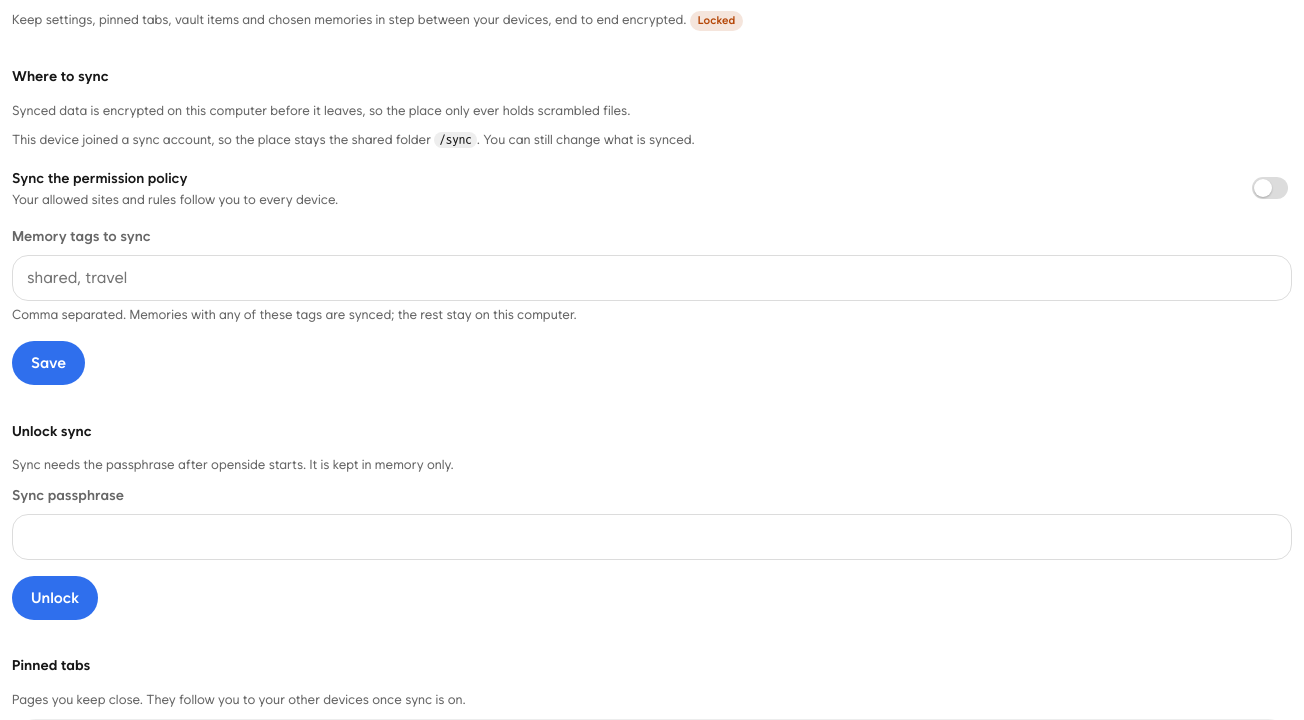
Scenario: SyncPage › explains a wrong passphrase in words
The width and height of the screenshot is (1304, 720).
Type "nope nope nope" into the password field labelled "Sync passphrase".
click(652, 537); type("nope nope nope")  # box [12,514,1292,560]
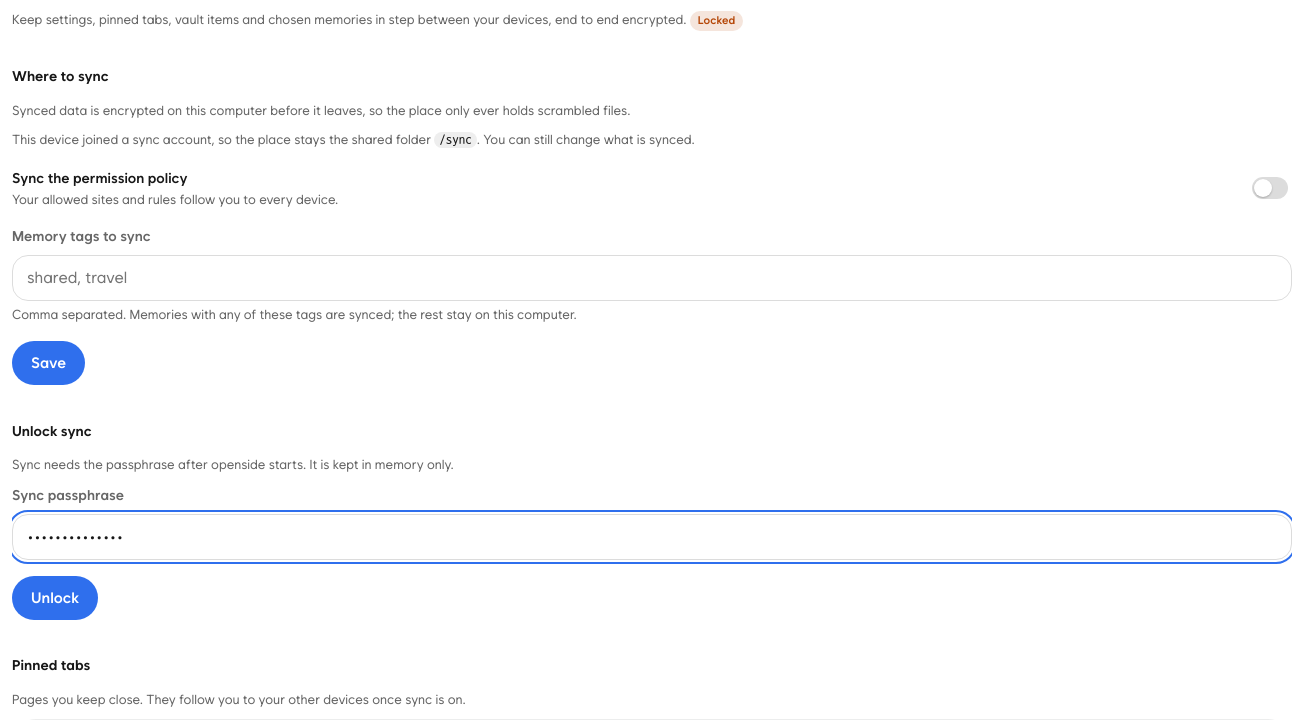
Click the button "Unlock".
click(55, 598)  # box [12,576,98,620]
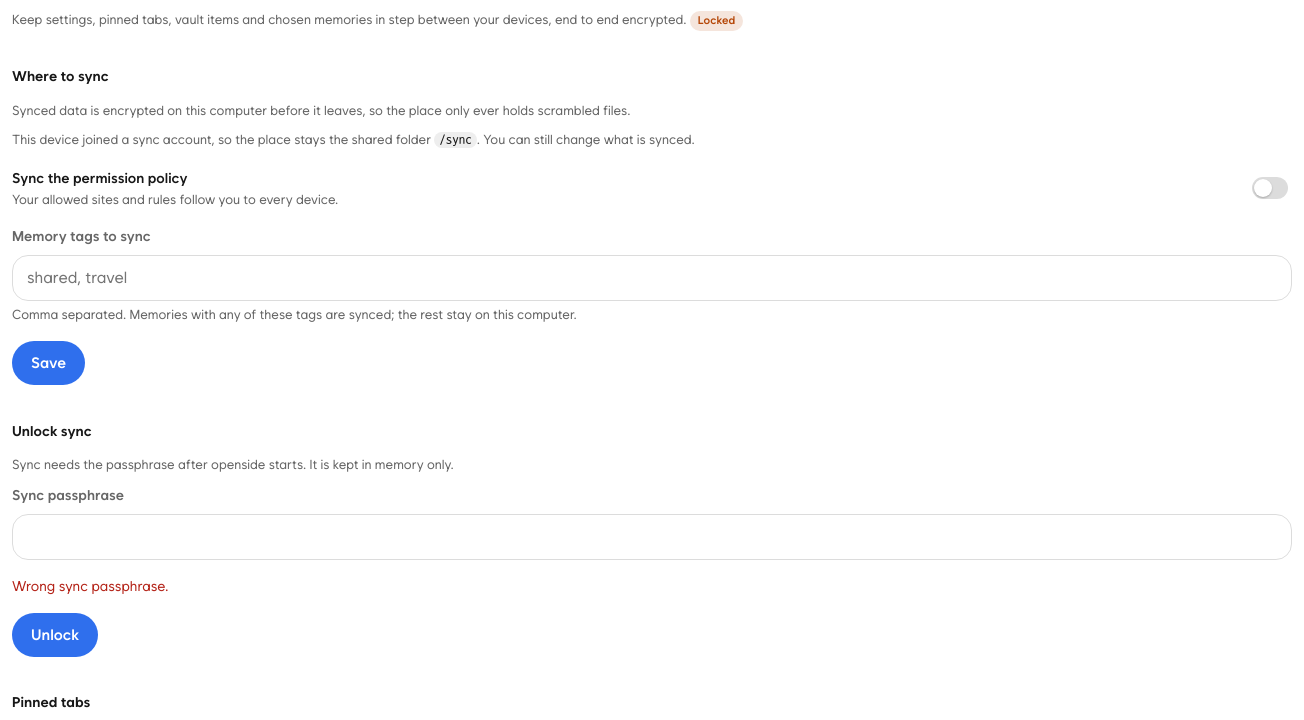
Expected: the message reads "Wrong sync passphrase.", [12,578,169,594]
